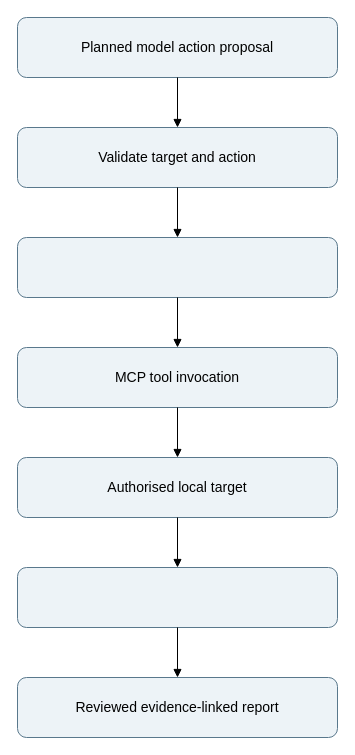
This 355x755 diagram has some shape labels left out. Here are the shapes that lost their labels. From the top down, the centre of each, then its label:
At [177,267]: "Operator review when required".
At [177,597]: "Capture request and complete result".
